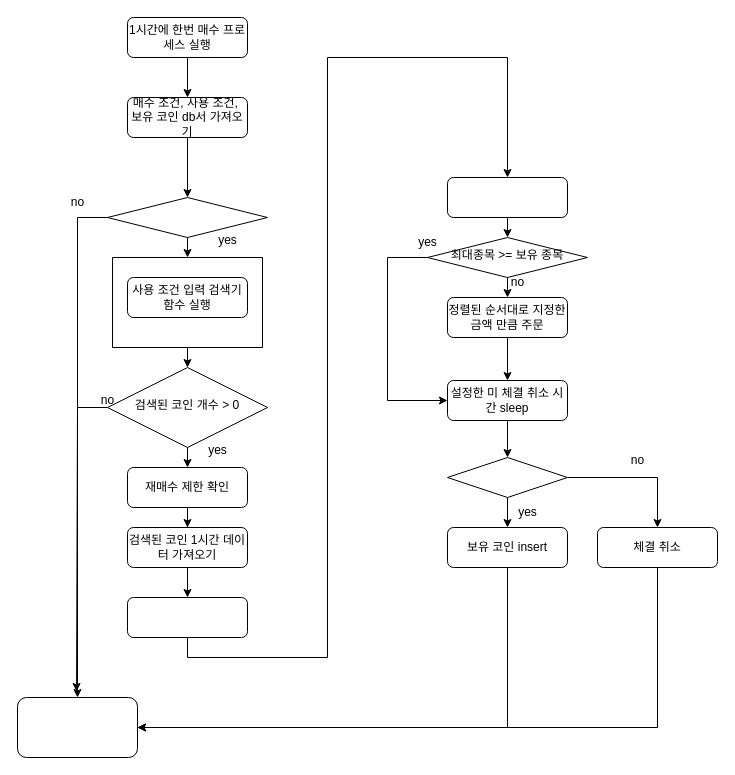
Some shapes in this 735 by 775 pixel diagram are drawn without their labels. The shapes that lost their labels are listed below. From the top down, each one's centre as x and y in pixels, then its label:
At point 187,217: "최대 종목 >=보유종목".
At point 507,197: "이격도 순서대로 정렬".
At point 507,477: "체결 여부".
At point 187,617: "코인당 이격도 계산".
At point 77,727: "종료".
